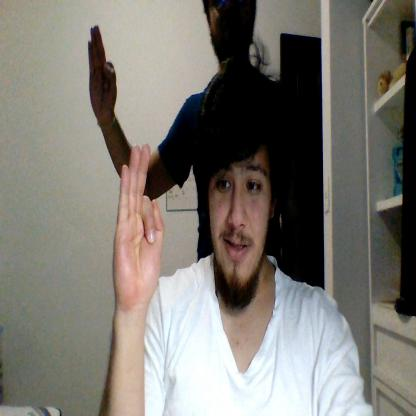F: (113, 143, 164, 306), (87, 25, 117, 119)
